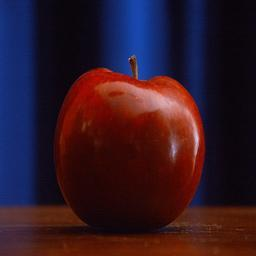apple: (51, 62, 205, 233)
